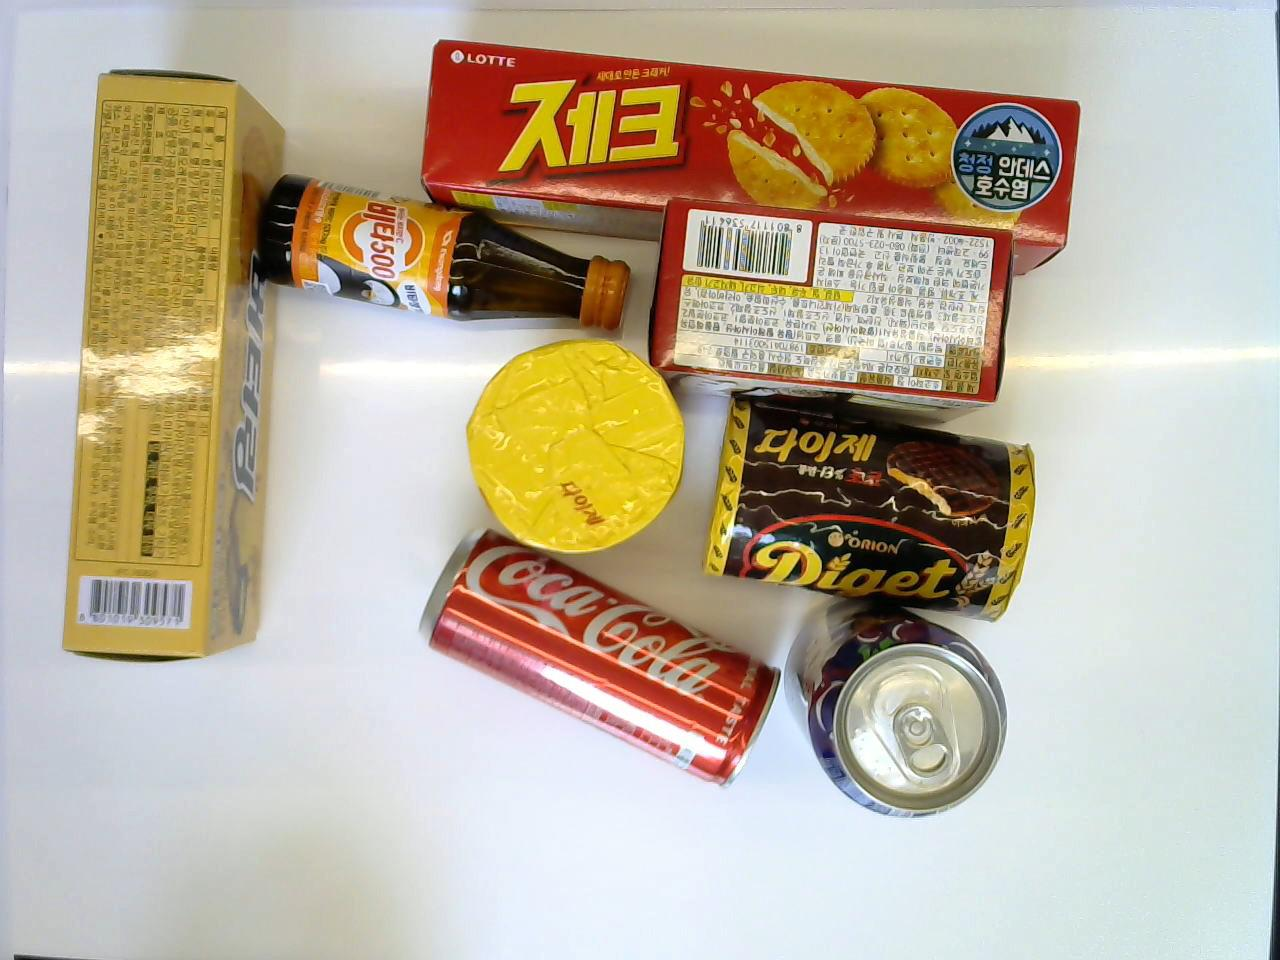buttering: (54, 66, 288, 672)
chocopie: (650, 194, 1021, 408)
coke: (416, 522, 787, 798)
diget_choco: (692, 399, 1042, 624)
diget_ori: (461, 339, 692, 554)
vita500: (251, 173, 634, 332)
welchs: (770, 592, 1011, 821)
zec: (421, 34, 1081, 280)
